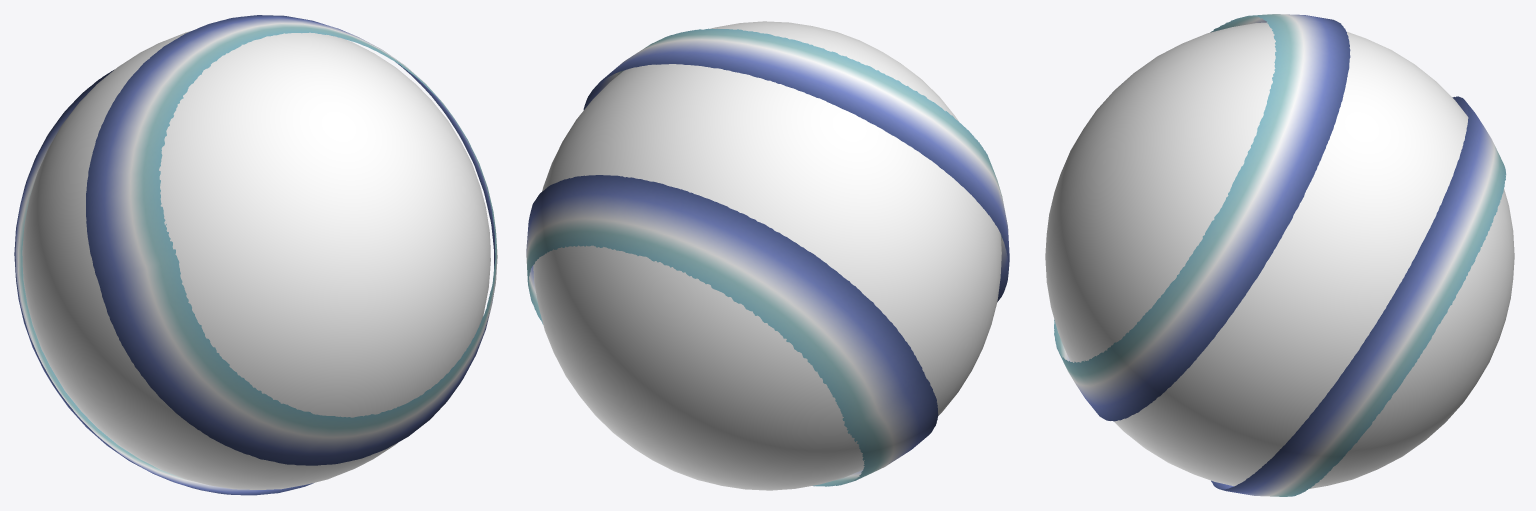
Rendered from yavin-IV.obj.
3 renders of one model, left to right at view 1: azimuth 30°, elevation 25°; view 2: azimuth 150°, elevation 25°; view 3: azimuth 270°, elevation 25°, orthographic.
Visible parts, largest first — view 1: GeoSphere02, GeoSphere03; view 2: GeoSphere02, GeoSphere03; view 3: GeoSphere02, GeoSphere03.
Boxes of the visible parts, box(x1,y1,x2,y2) form: GeoSphere02: box(22, 31, 490, 489); GeoSphere03: box(14, 15, 497, 495); GeoSphere02: box(533, 21, 1001, 490); GeoSphere03: box(526, 28, 1009, 486); GeoSphere02: box(1045, 22, 1514, 488); GeoSphere03: box(1054, 14, 1506, 496).
Size of the model in its own units: 114 by 114 by 114.
